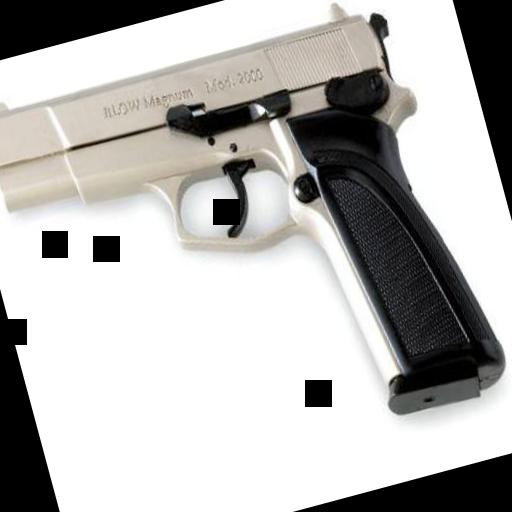Handgun: (0, 0, 511, 506)
